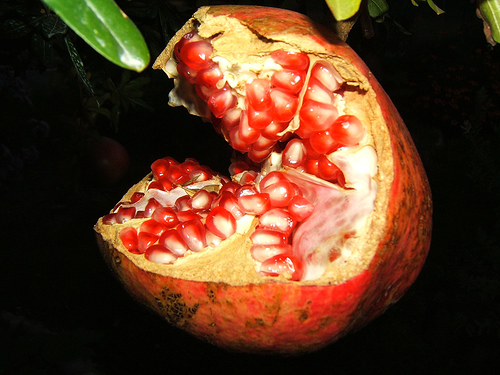pomogranate: (93, 4, 431, 355)
